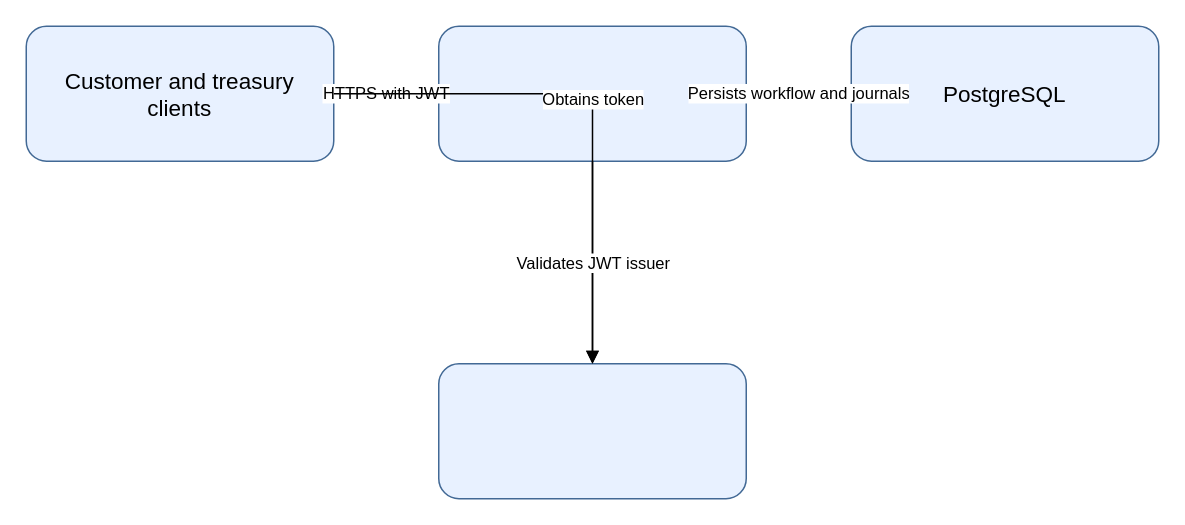
Some shapes in this 1185 by 525 pixel diagram are drawn without their labels. Each missing label, with the centre of its shape:
Keycloak: the point at 591,430
Spring Boot application: the point at 591,93
